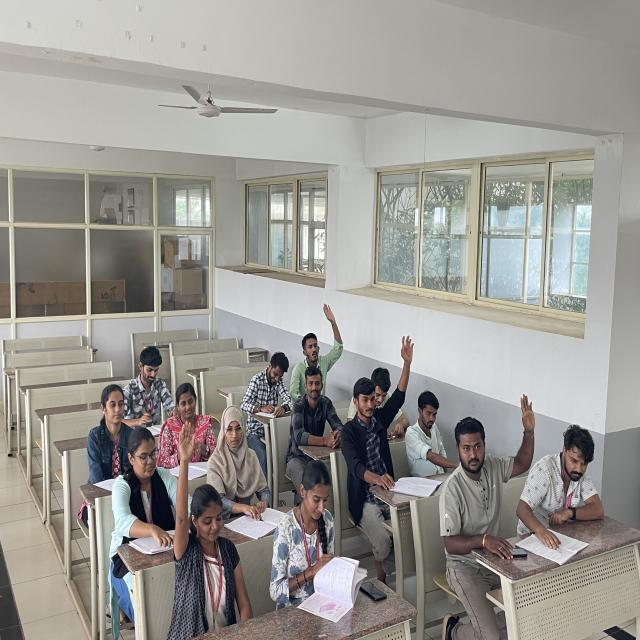Hand Rising: (167, 425, 239, 600), (444, 391, 535, 526), (345, 339, 414, 468), (285, 299, 349, 388)
Reading: (276, 478, 360, 614), (212, 410, 288, 540), (115, 439, 182, 563), (121, 354, 181, 436), (349, 369, 405, 437)
Writing: (230, 352, 296, 418)
